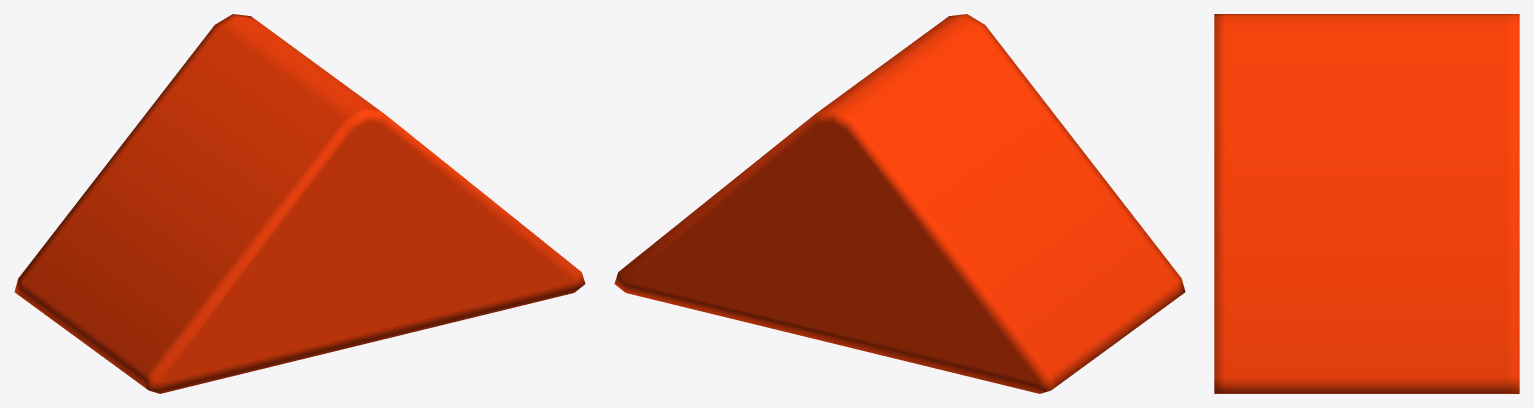
File: wooden_block_tri_01.FBX
3 renders of one model, left to right at view 1: azimuth 30°, elevation 25°; view 2: azimuth 150°, elevation 25°; view 3: azimuth 270°, elevation 25°, orthographic. The views are drawn at different scales.
Parts seen in each view (by area): view 1: wooden_block_tri_01; view 2: wooden_block_tri_01; view 3: wooden_block_tri_01.
Part boxes in pixels (box(x1,y1,x2,y2)): wooden_block_tri_01: box(14, 14, 585, 393); wooden_block_tri_01: box(614, 14, 1185, 393); wooden_block_tri_01: box(1214, 14, 1519, 393).
Size of the model in its own units: 368 by 186 by 196.
